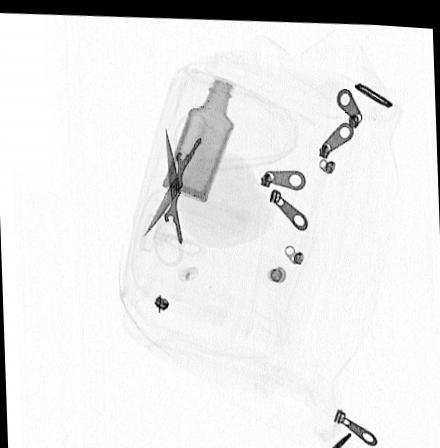Scissors: (140, 103, 210, 265)
